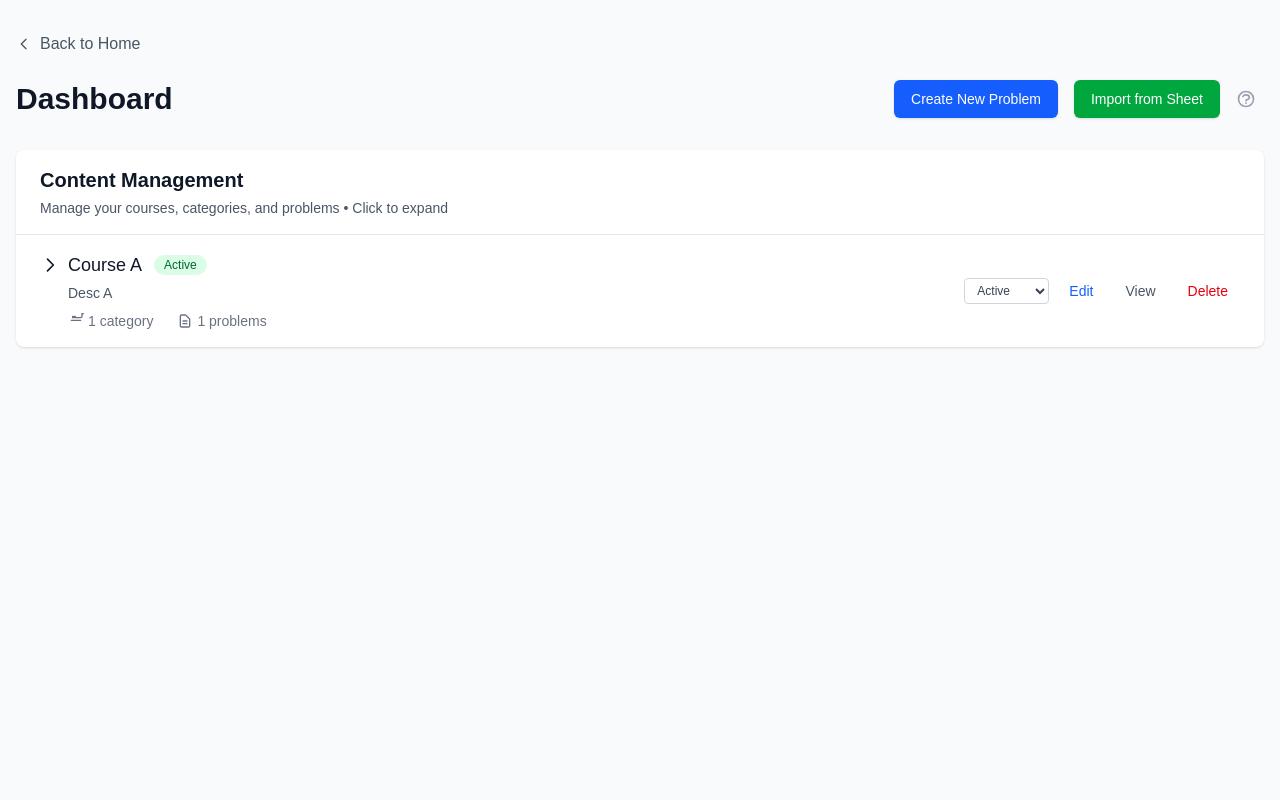
Test: TeacherClient › deletes a course successfully
Click the button "Course A". click: click(91, 265)
box: [40,251,142,279]
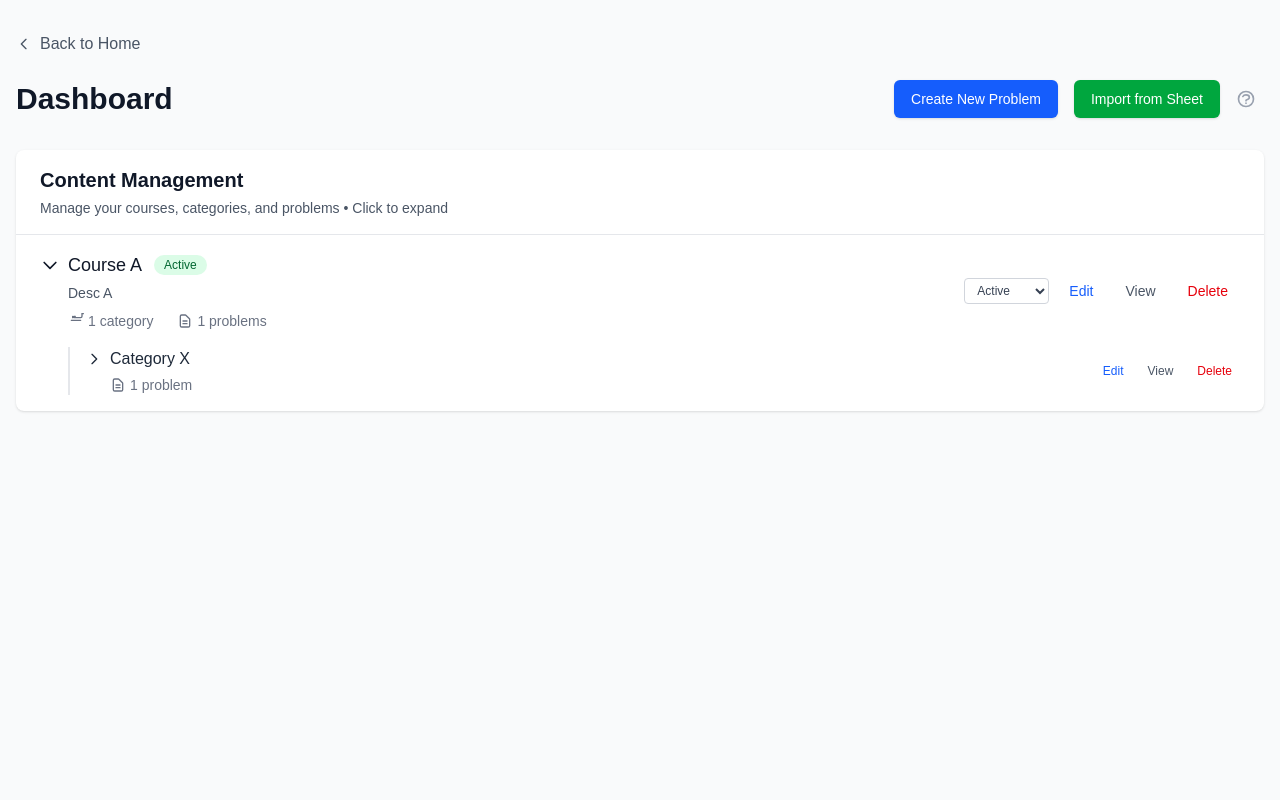
Click the button "Delete" in the row of "Desc A". click: click(1208, 291)
box: [1176,277,1240,305]
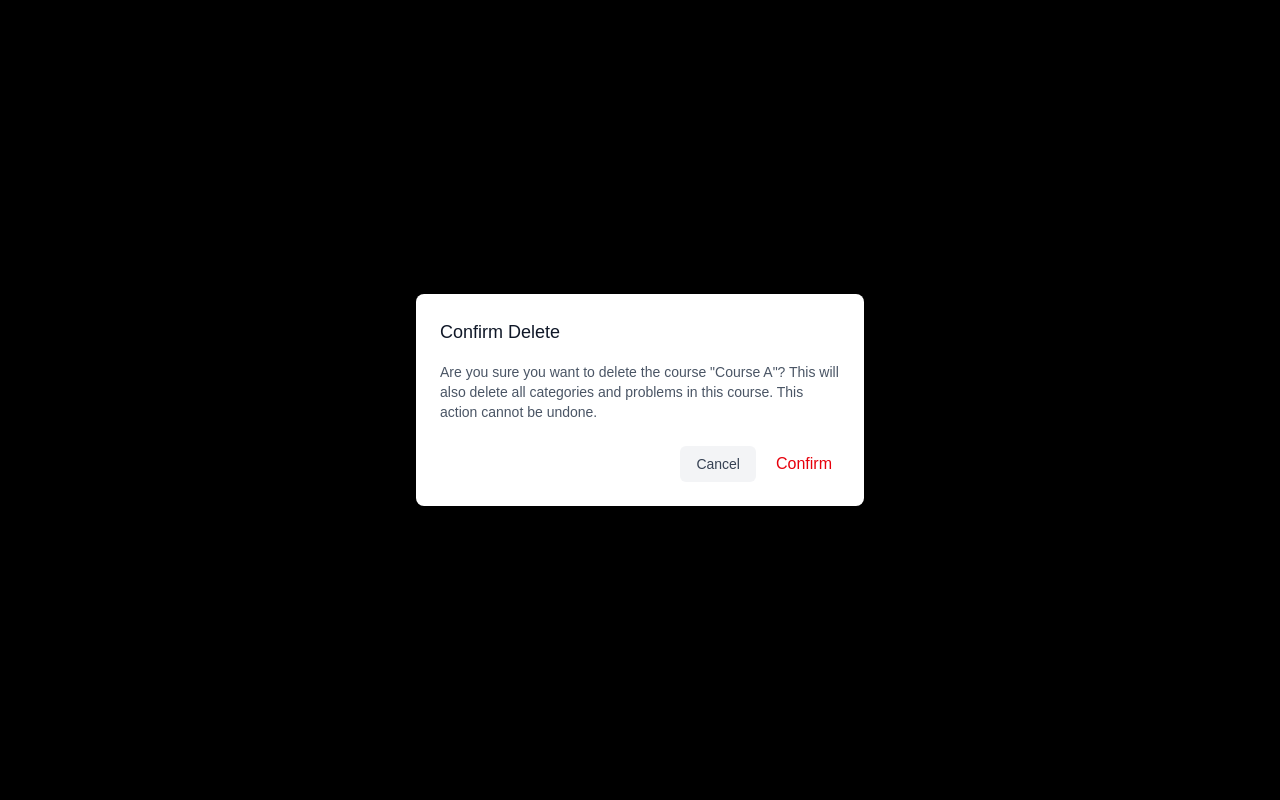
Click the button "Confirm". click: click(804, 464)
box: [768,446,840,482]
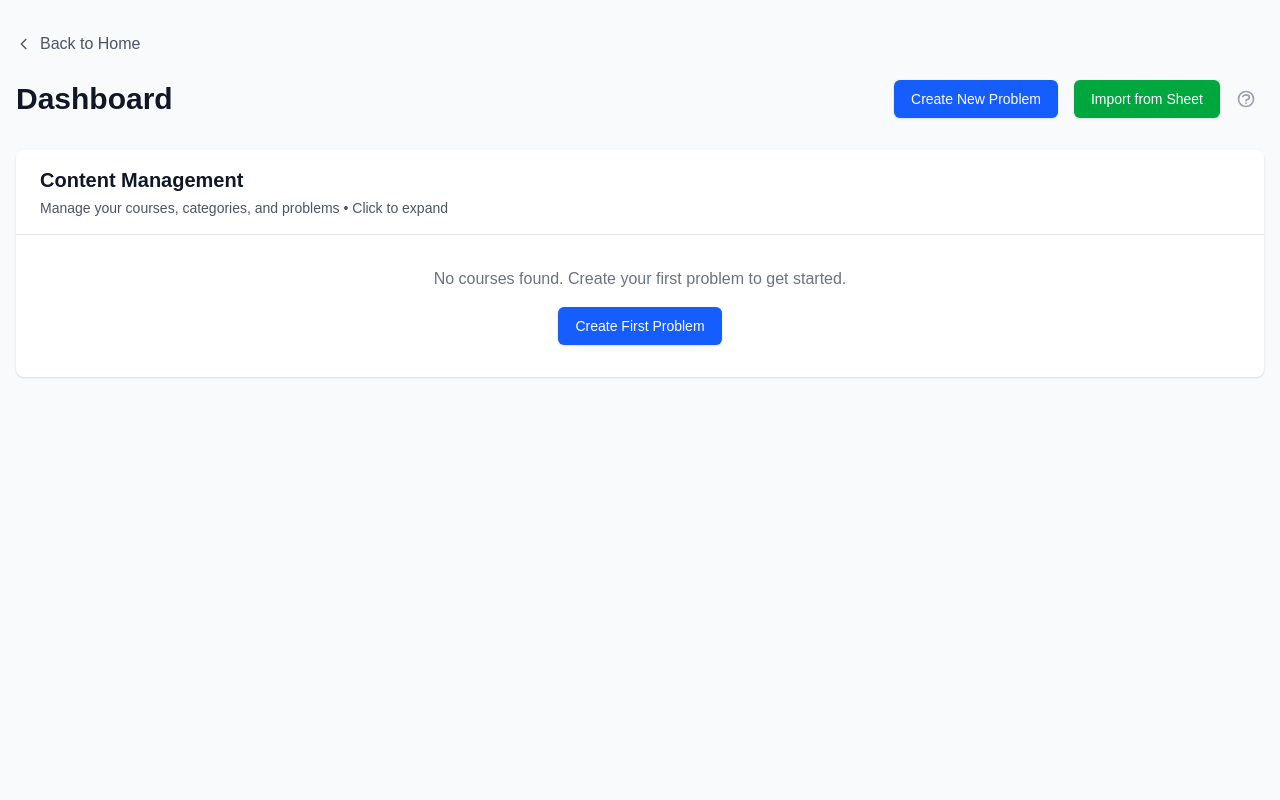
Check: the button "Course A" is gone
